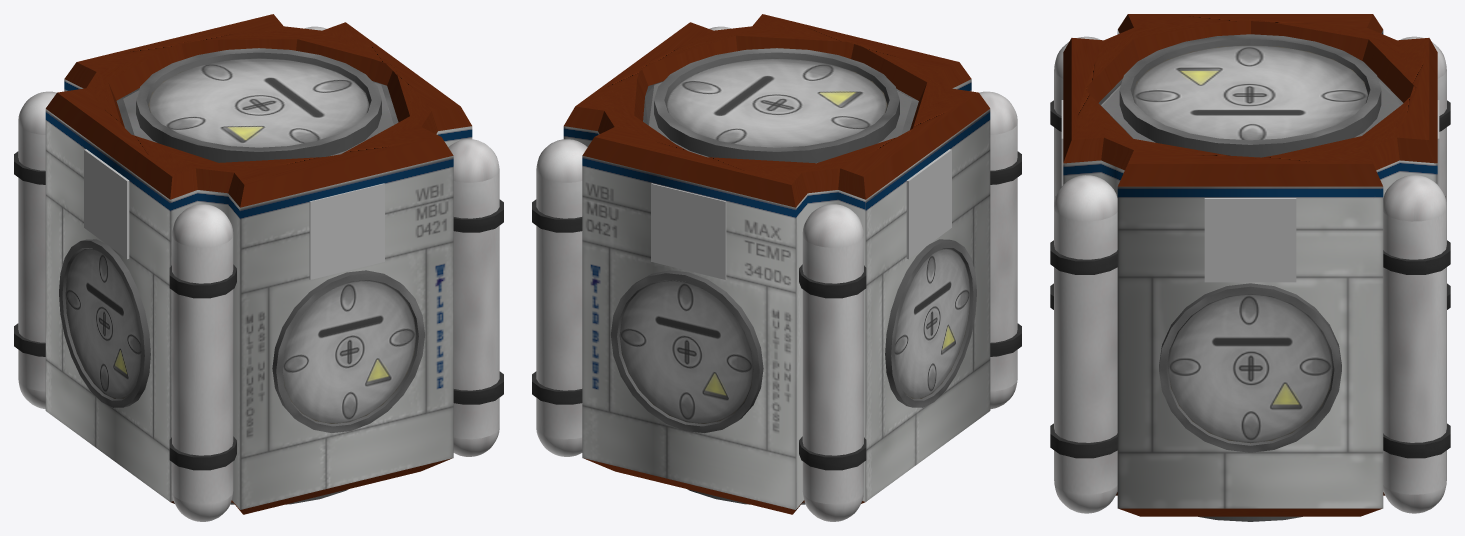
File: MBUNoLegs.FBX
The picture shows the model from 3 angles, left to right: view 1: azimuth 30°, elevation 25°; view 2: azimuth 150°, elevation 25°; view 3: azimuth 270°, elevation 25°; orthographic projection. The views are drawn at different scales.
Parts seen in each view (by area): view 1: BaseUnit, NodePort005, NodePort002, StorageTank006, StorageTank001, NodePort001, StorageTank004, logoPanel002, logoPanel001, MountingBracket011, MountingBracket012, MountingBracket005 (+1 smaller); view 2: BaseUnit, NodePort005, NodePort004, StorageTank004, StorageTank002, NodePort001, StorageTank006, logoPanel004, logoPanel001, MountingBracket009, MountingBracket010, MountingBracket007 (+1 smaller); view 3: BaseUnit, NodePort005, NodePort003, StorageTank001, StorageTank002, logoPanel003, MountingBracket006, MountingBracket008, StorageTank006, StorageTank004, MountingBracket005, MountingBracket007 (+1 smaller).
Part boxes in pixels (x1,y1,x2,y2): BaseUnit: (45, 14, 472, 514); NodePort005: (136, 48, 381, 162); NodePort002: (272, 270, 424, 432); StorageTank006: (172, 204, 233, 521); StorageTank001: (448, 139, 499, 456); NodePort001: (59, 239, 150, 407); StorageTank004: (18, 91, 56, 409); logoPanel002: (309, 183, 384, 279); logoPanel001: (84, 149, 129, 259); MountingBracket011: (169, 264, 236, 298); MountingBracket012: (169, 436, 236, 470); MountingBracket005: (453, 199, 503, 232); BaseUnit: (563, 14, 990, 514); NodePort005: (654, 48, 899, 163); NodePort004: (611, 270, 763, 432); StorageTank004: (802, 204, 863, 521); StorageTank002: (536, 139, 587, 456); NodePort001: (885, 239, 976, 407); StorageTank006: (979, 91, 1017, 409); logoPanel004: (651, 183, 726, 279); logoPanel001: (906, 149, 951, 259); MountingBracket009: (799, 264, 866, 298); MountingBracket010: (799, 436, 866, 470); MountingBracket007: (532, 199, 582, 232); BaseUnit: (1063, 14, 1437, 516); NodePort005: (1119, 34, 1381, 157); NodePort003: (1159, 283, 1341, 452); StorageTank001: (1054, 175, 1117, 513); StorageTank002: (1383, 175, 1446, 513); logoPanel003: (1204, 198, 1296, 282); MountingBracket006: (1050, 423, 1117, 458); MountingBracket008: (1383, 423, 1450, 458); StorageTank006: (1054, 36, 1100, 204); StorageTank004: (1400, 36, 1446, 204); MountingBracket005: (1050, 240, 1117, 274); MountingBracket007: (1383, 240, 1450, 274).
Bounding box in the file's own units: 1.91 × 1.91 × 1.99.
